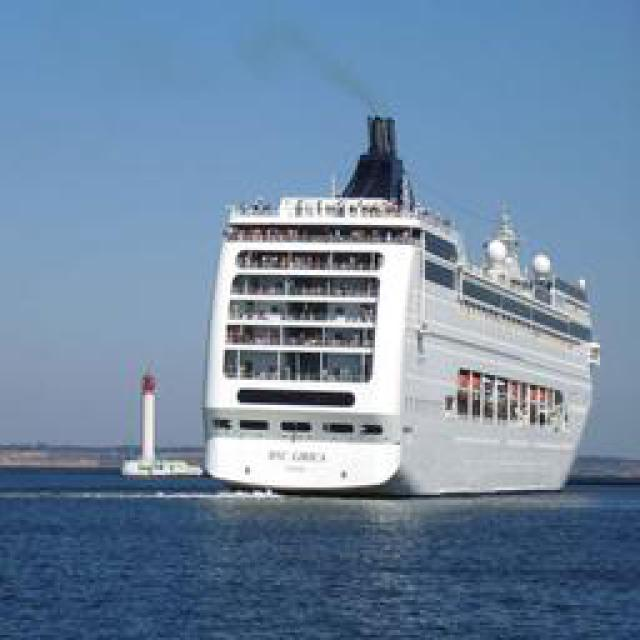Ship: (199, 105, 602, 498)
